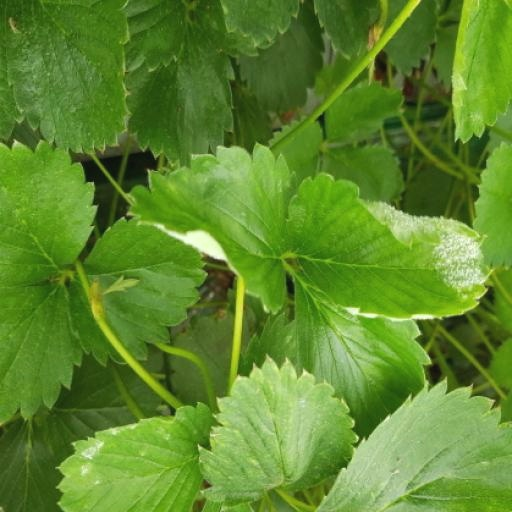Powdery Mildew Leaf: (284, 192, 494, 342), (127, 198, 297, 371), (56, 0, 222, 111)
